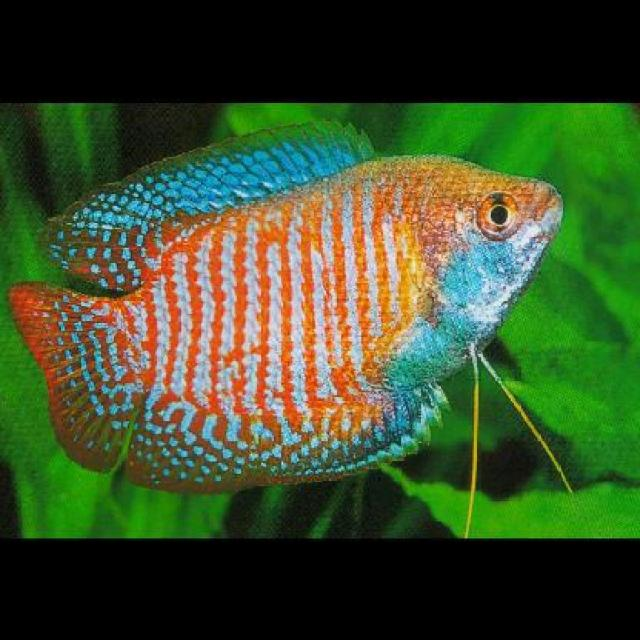Gourami: (8, 117, 558, 483)
